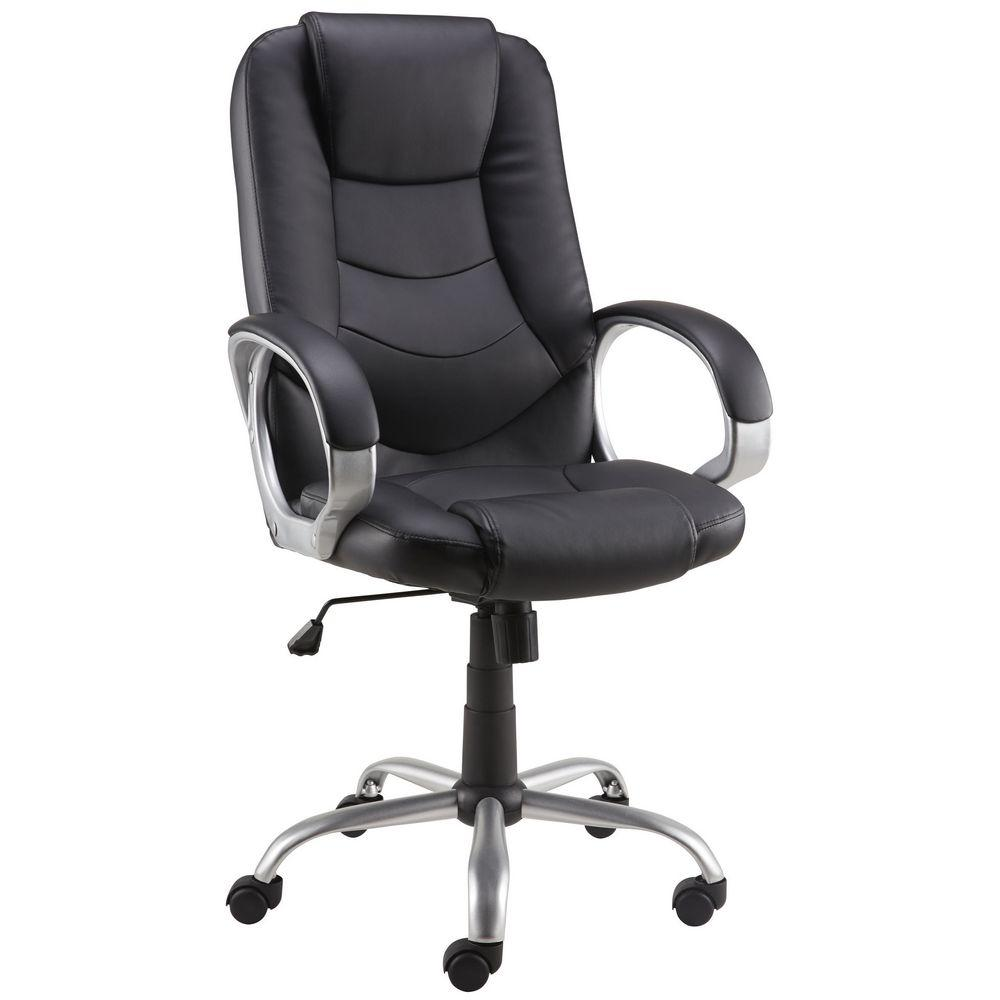chair: (174, 1, 828, 1000)
